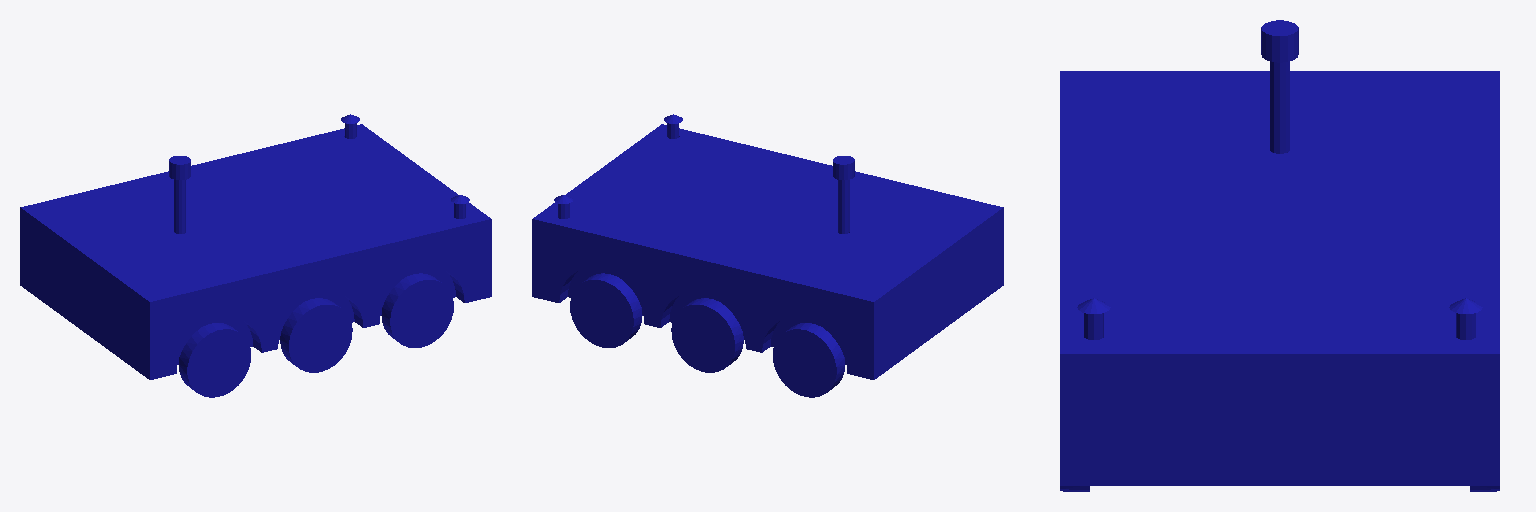
The robot description file, URDF, robot "XUV25B":
<?xml version="1.0"?>
<robot name="XUV25B">

<!-- Vehicle model frame_id: /veh. 
Without GNSS-IMU (this package was originally intended to replace GNSS-IMU...), which can broadcast /map->/veh, 
the NDT node will broadcast /map ->/veh TF transformation -->
        
    <link name="veh">
        <visual>
            <origin xyz="0 0 -1.0" rpy="0 0 0" />
            <geometry>
                <!-- <box size="3.2 2.1 1.0" /> -->
                <mesh filename="package://common/urdf/XG-veh.stl"/>
            </geometry>
            <material name="blue">
                <color rgba="0.15 0.15 0.7 1.0" />
            </material>
        </visual>
    </link>

</robot>

--- What the picture shows (computed from the rendered views, not written in the file) ---
3 views of the same robot in one strip: view 1: azimuth 30°, elevation 25°; view 2: azimuth 150°, elevation 25°; view 3: azimuth 270°, elevation 25° (orthographic).
Model XUV25B with 1 links and 0 joints (none), rooted at veh, posed all joints at 0.
Links seen in each view (by area): view 1: veh; view 2: veh; view 3: veh.
Link boxes in pixels (x1,y1,x2,y2): veh: (20,114,491,397); veh: (532,114,1003,397); veh: (1060,20,1499,491).
Size in the robot's own frame: 3.2 by 2.1 by 1.64 metres.
1 mesh visuals loaded from 1 distinct referenced files (1 binary STL).